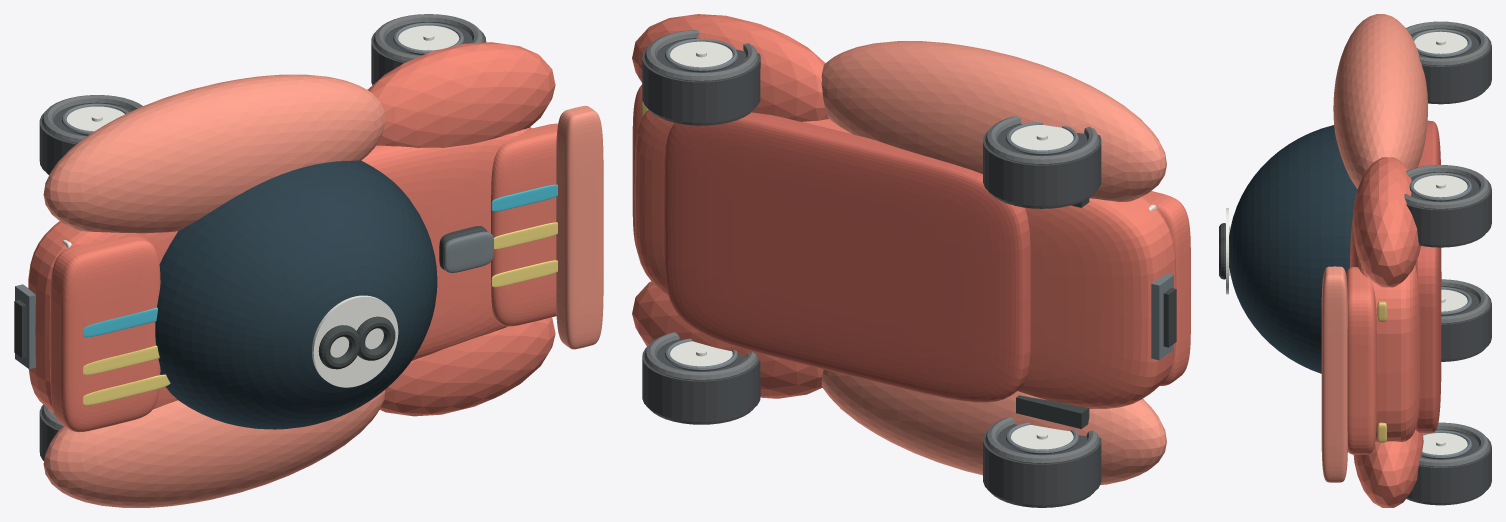
File: 8-ball.glb
The picture shows the model from 3 angles, left to right: view 1: azimuth 30°, elevation 25°; view 2: azimuth 150°, elevation 25°; view 3: azimuth 270°, elevation 25°; orthographic projection. The views are drawn at different scales.
Visible parts, largest first — view 1: body__red, body__red_lite, body__domed_black, body__white, body__yellow, body__black, body__steel_dark, body__blue, rear_L__rubber_soft, front_L__rubber_soft, front_L__tire, rear_L__white (+2 smaller); view 2: body__red_dark, body__red, body__red_lite, rear_L__tire, front_L__tire, front_R__tire, rear_R__tire, body__black, rear_L__rubber_soft, front_L__rubber_soft, rear_R__rubber_soft, front_R__rubber_soft (+8 smaller); view 3: body__red, body__domed_black, body__red_lite, body__red_dark, rear_L__tire, rear_R__tire, front_L__tire, front_R__tire, rear_L__rubber_soft, front_L__rubber_soft, rear_R__rubber_soft, front_R__rubber_soft (+9 smaller).
Part boxes in pixels (bbox=[...]): body__red: bbox=[28, 42, 557, 432]; body__red_lite: bbox=[43, 74, 603, 507]; body__domed_black: bbox=[155, 160, 437, 429]; body__white: bbox=[62, 240, 398, 387]; body__yellow: bbox=[83, 222, 557, 405]; body__black: bbox=[14, 226, 487, 369]; body__steel_dark: bbox=[15, 231, 493, 369]; body__blue: bbox=[83, 184, 557, 337]; rear_L__rubber_soft: bbox=[373, 14, 483, 61]; front_L__rubber_soft: bbox=[42, 95, 142, 174]; front_L__tire: bbox=[39, 103, 132, 174]; rear_L__white: bbox=[398, 25, 459, 50]; body__red_dark: bbox=[664, 112, 1030, 402]; body__red: bbox=[632, 14, 1190, 408]; body__red_lite: bbox=[821, 41, 1166, 484]; rear_L__tire: bbox=[642, 38, 760, 122]; front_L__tire: bbox=[983, 124, 1101, 205]; front_R__tire: bbox=[983, 424, 1101, 505]; rear_R__tire: bbox=[642, 340, 760, 421]; body__black: bbox=[1016, 198, 1176, 428]; rear_L__rubber_soft: bbox=[644, 30, 758, 125]; front_L__rubber_soft: bbox=[985, 116, 1098, 208]; rear_R__rubber_soft: bbox=[644, 332, 757, 424]; front_R__rubber_soft: bbox=[985, 417, 1098, 507]; body__red: bbox=[1346, 157, 1423, 507]; body__domed_black: bbox=[1229, 125, 1357, 373]; body__red_lite: bbox=[1321, 14, 1427, 482]; body__red_dark: bbox=[1415, 120, 1441, 433]; rear_L__tire: bbox=[1406, 172, 1491, 245]; rear_R__tire: bbox=[1407, 430, 1491, 502]; front_L__tire: bbox=[1411, 29, 1491, 101]; front_R__tire: bbox=[1441, 286, 1491, 359]; rear_L__rubber_soft: bbox=[1404, 165, 1489, 247]; front_L__rubber_soft: bbox=[1406, 21, 1489, 104]; rear_R__rubber_soft: bbox=[1406, 422, 1489, 505]; front_R__rubber_soft: bbox=[1441, 279, 1489, 361].
Bounding box in the file's own units: 3.76 × 2.68 × 1.84.
